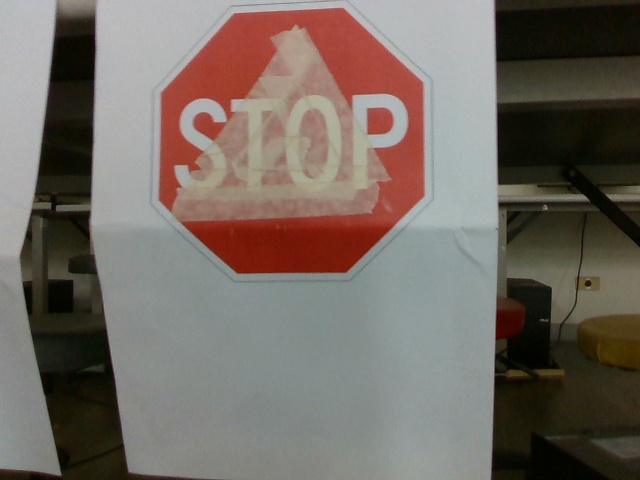stop: (163, 7, 433, 286)
